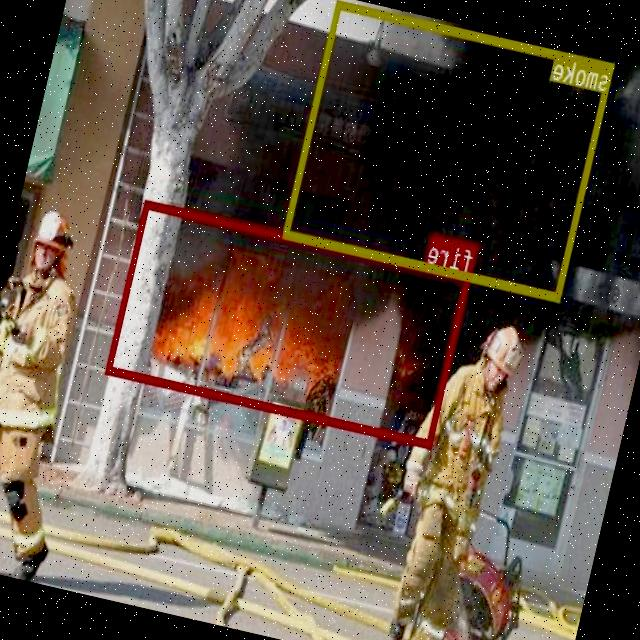fire: (107, 199, 471, 446)
smoke: (283, 0, 615, 301)
